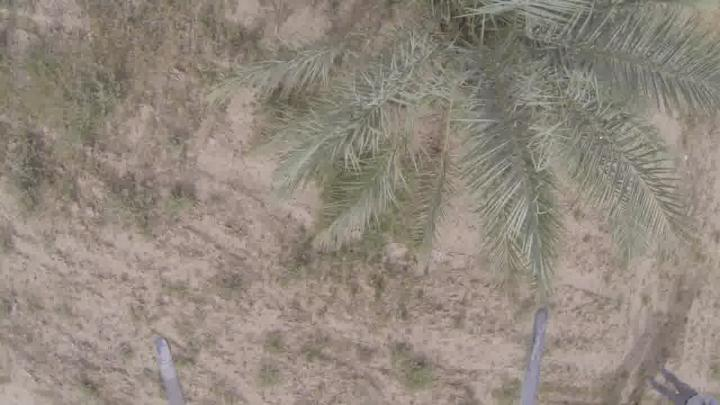Date-Palm-Crown: (329, 0, 644, 186)
